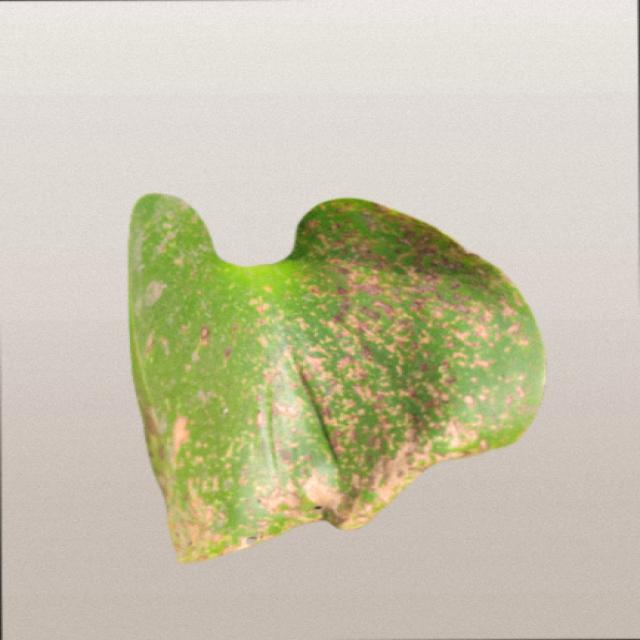daun berpenyakit bercak: (130, 196, 545, 562)
